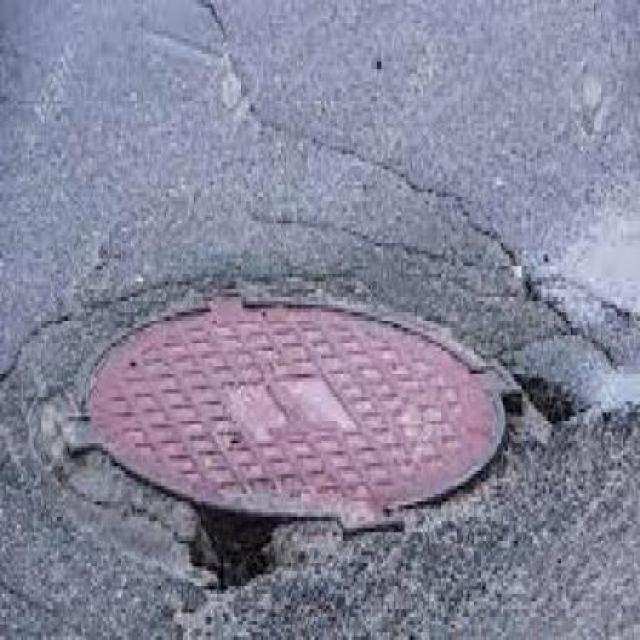Manhole: (61, 290, 507, 512)
Pothole: (186, 511, 286, 591), (514, 365, 596, 426)
